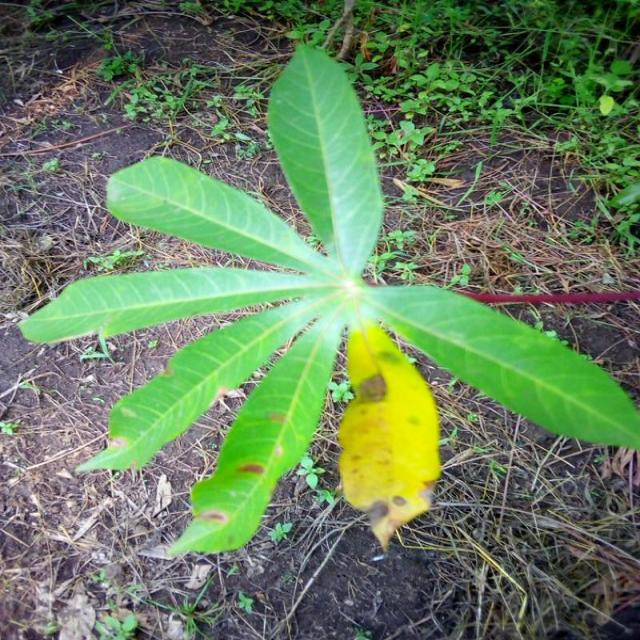cassava leaf: (17, 39, 638, 559), (166, 308, 342, 558), (265, 40, 383, 278), (336, 314, 442, 552)
